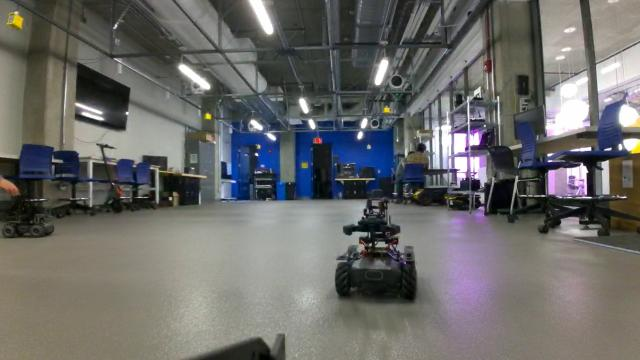robot: (328, 179, 431, 304)
